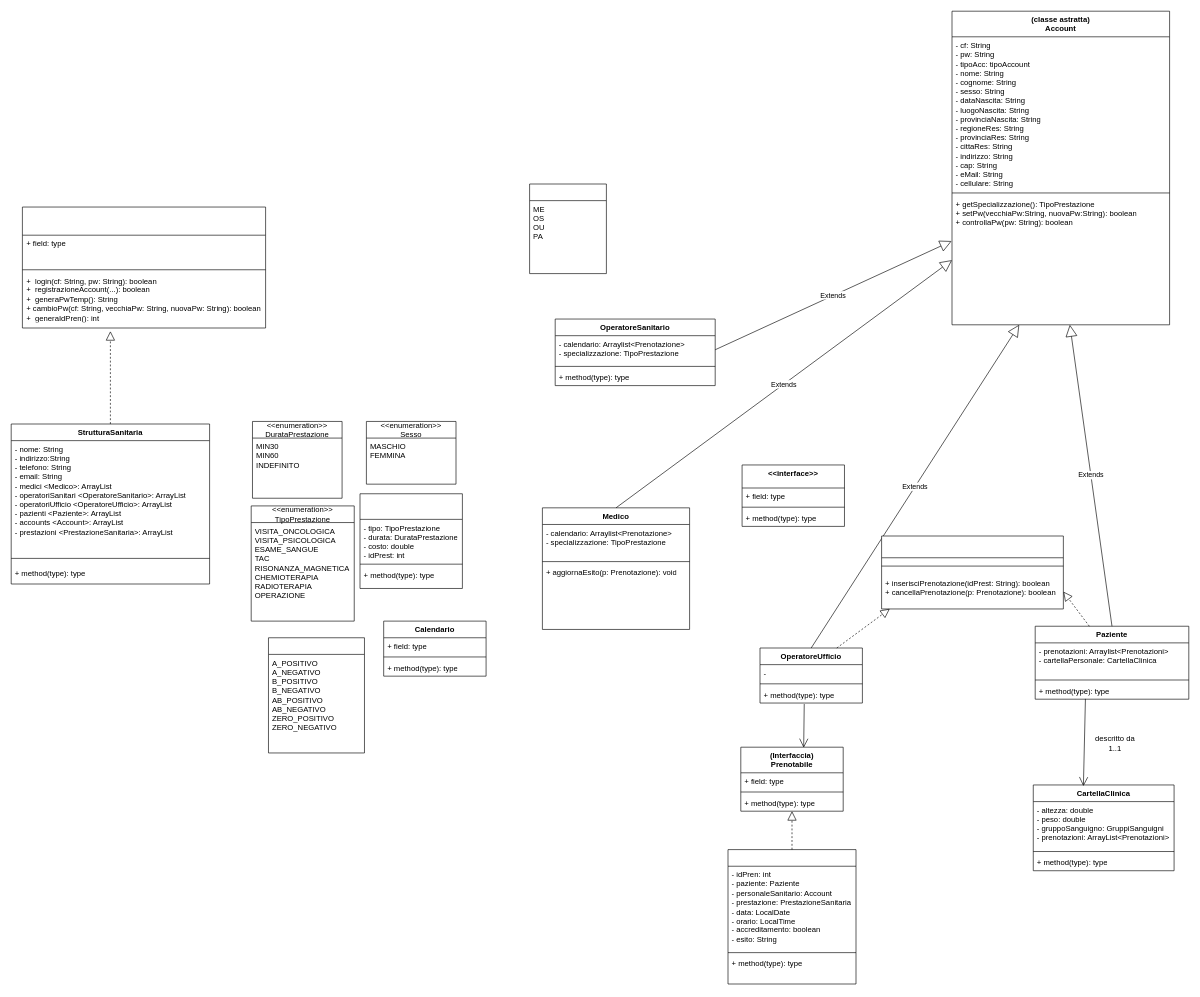
The diagram is 1200 pixels wide and 997 high, and some of its shapes have lost their labels. The shapes that lost their labels are listed below. From the top down, each one's box as (x1, y1, x2, y2) in pixels, then its label:
(529, 183, 606, 274): <<enumeration>> TipoAccount
(22, 206, 266, 328): <<interface>> IStrutturaSanitaria
(359, 493, 462, 588): PrestazioneSanitaria
(881, 535, 1063, 609): <<interface>> IPrenotante
(268, 637, 364, 753): <<enumeration>> GruppiSanguigni
(727, 849, 856, 984): Prenotazione
